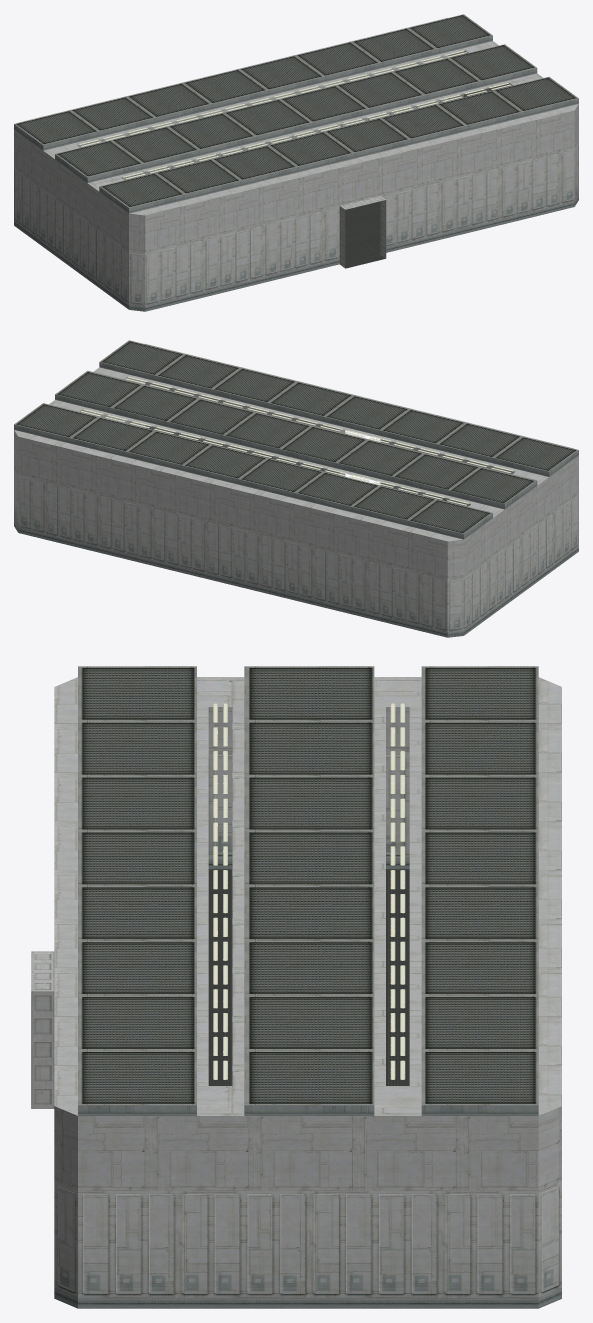
The model's file is thm_corl_assoc_hall_civ_s01_r13_meeting5_mesh_r13.fbx.
3 views of the same model, one above another, from view 1: azimuth 30°, elevation 25°; view 2: azimuth 150°, elevation 25°; view 3: azimuth 270°, elevation 25° (orthographic). The views are drawn at different scales.
Parts seen in each view (by area): view 1: mesh_node; view 2: mesh_node; view 3: mesh_node.
Boxes of the visible parts, x1=… form: mesh_node: x1=14, y1=14, x2=578, y2=311; mesh_node: x1=14, y1=340, x2=578, y2=637; mesh_node: x1=31, y1=666, x2=561, y2=1308.
Size of the model in its own units: 22 by 4.75 by 11.25.
